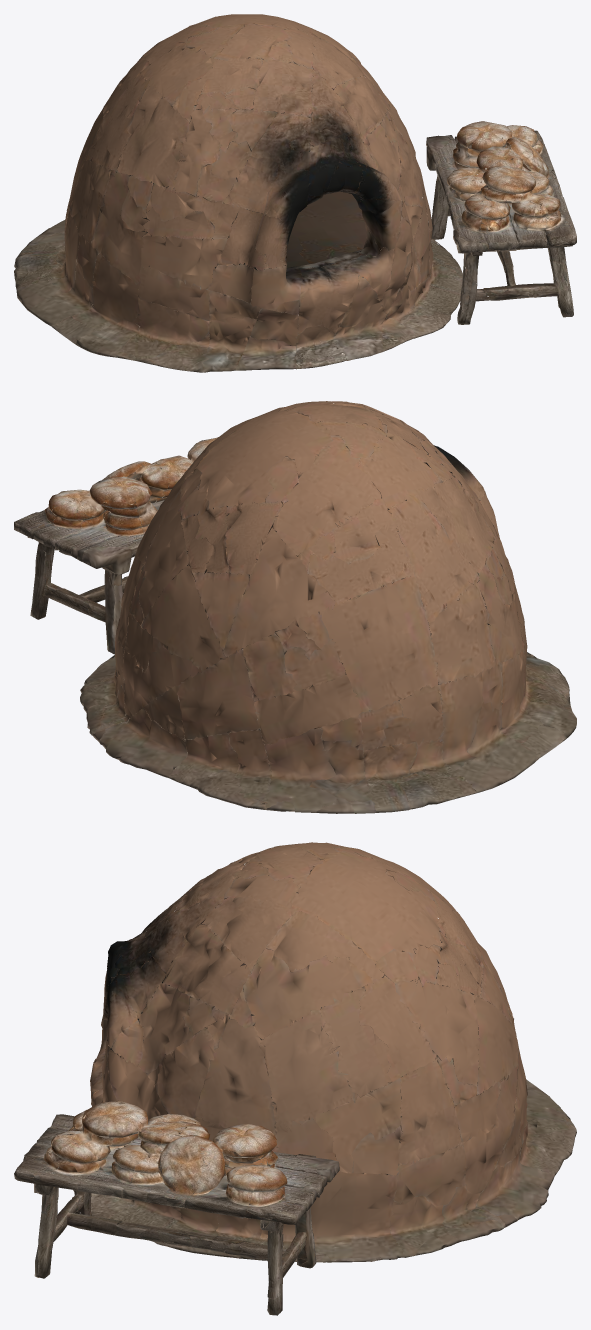
File: clay-oven.glb
3 views of the same model, one above another, from view 1: azimuth 30°, elevation 25°; view 2: azimuth 150°, elevation 25°; view 3: azimuth 270°, elevation 25° (orthographic). The views are drawn at different scales.
Parts seen in each view (by area): view 1: Mesh_0; view 2: Mesh_0; view 3: Mesh_0.
Boxes of the visible parts, box(x1,y1,x2,y2) form: Mesh_0: box(14, 14, 576, 372); Mesh_0: box(14, 401, 576, 813); Mesh_0: box(14, 842, 576, 1315).
Bounding box in the file's own units: 2.36 × 1.2 × 2.04.
1 material, 1 textured.
